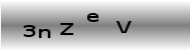3: (22, 24, 35, 37)
V: (114, 20, 132, 34)
Z: (58, 22, 74, 35)
e: (85, 11, 99, 22)
n: (38, 28, 51, 38)
